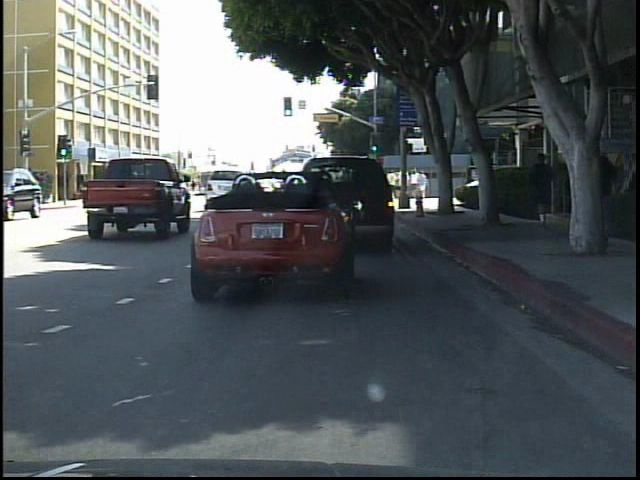person: (578, 136, 621, 255), (524, 149, 560, 230), (147, 172, 165, 201)
